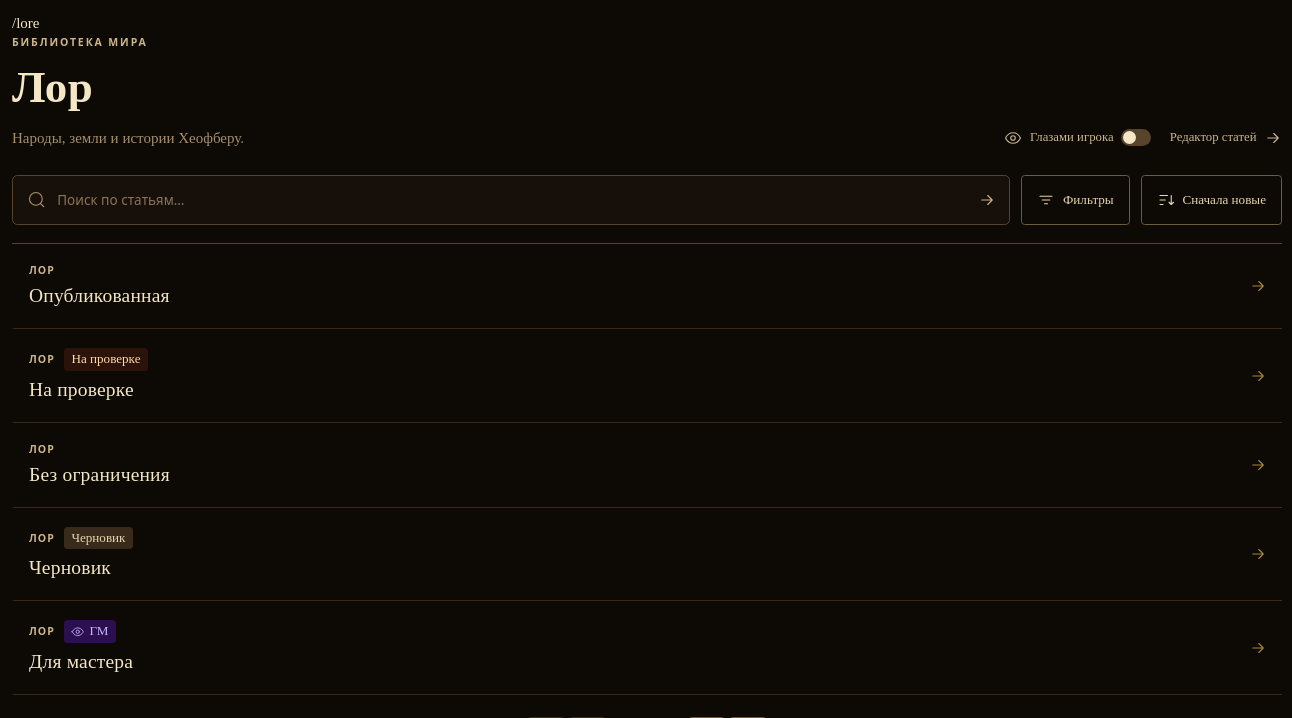
Test: Lore navigation and filters › shows only published public articles in player view
The width and height of the screenshot is (1292, 718).
Click the switch labelled "Глазами игрока": (1078, 138) [1004,129,1151,147]
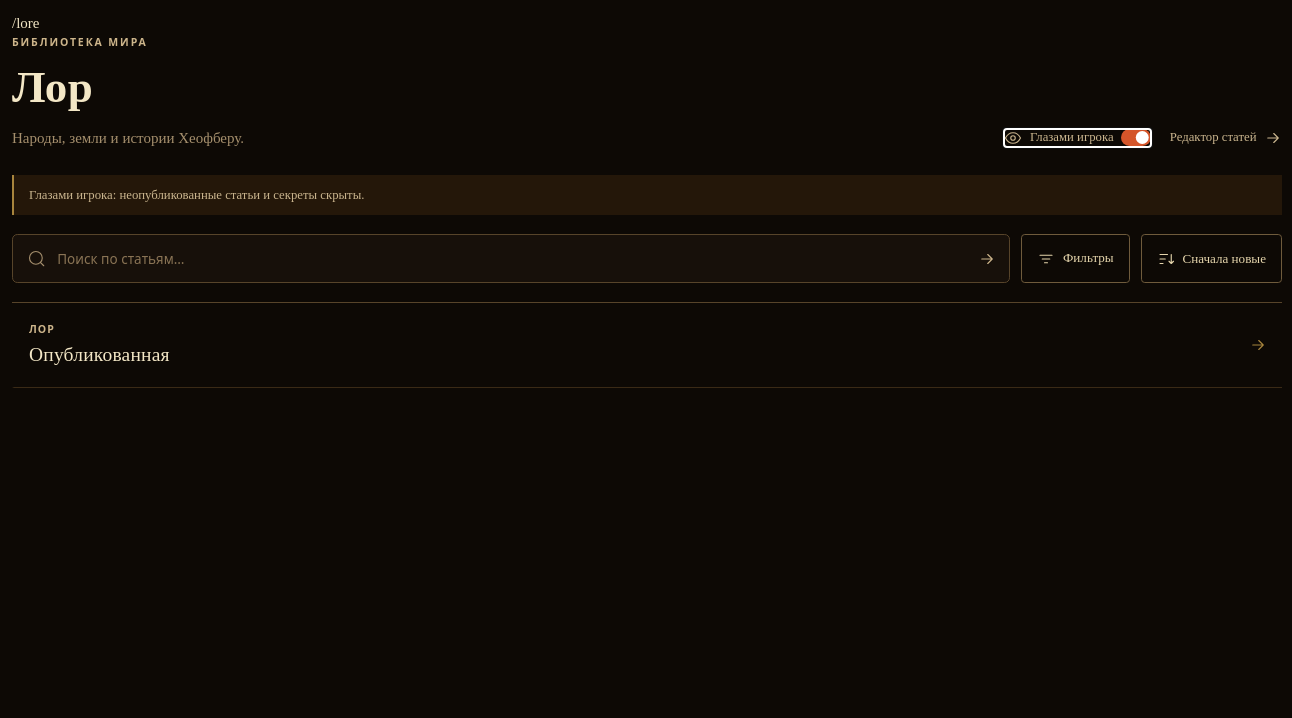
Expected: the link "На проверке" is gone
Expected: the link "Без ограничения" is gone
Expected: the link "Черновик" is gone
